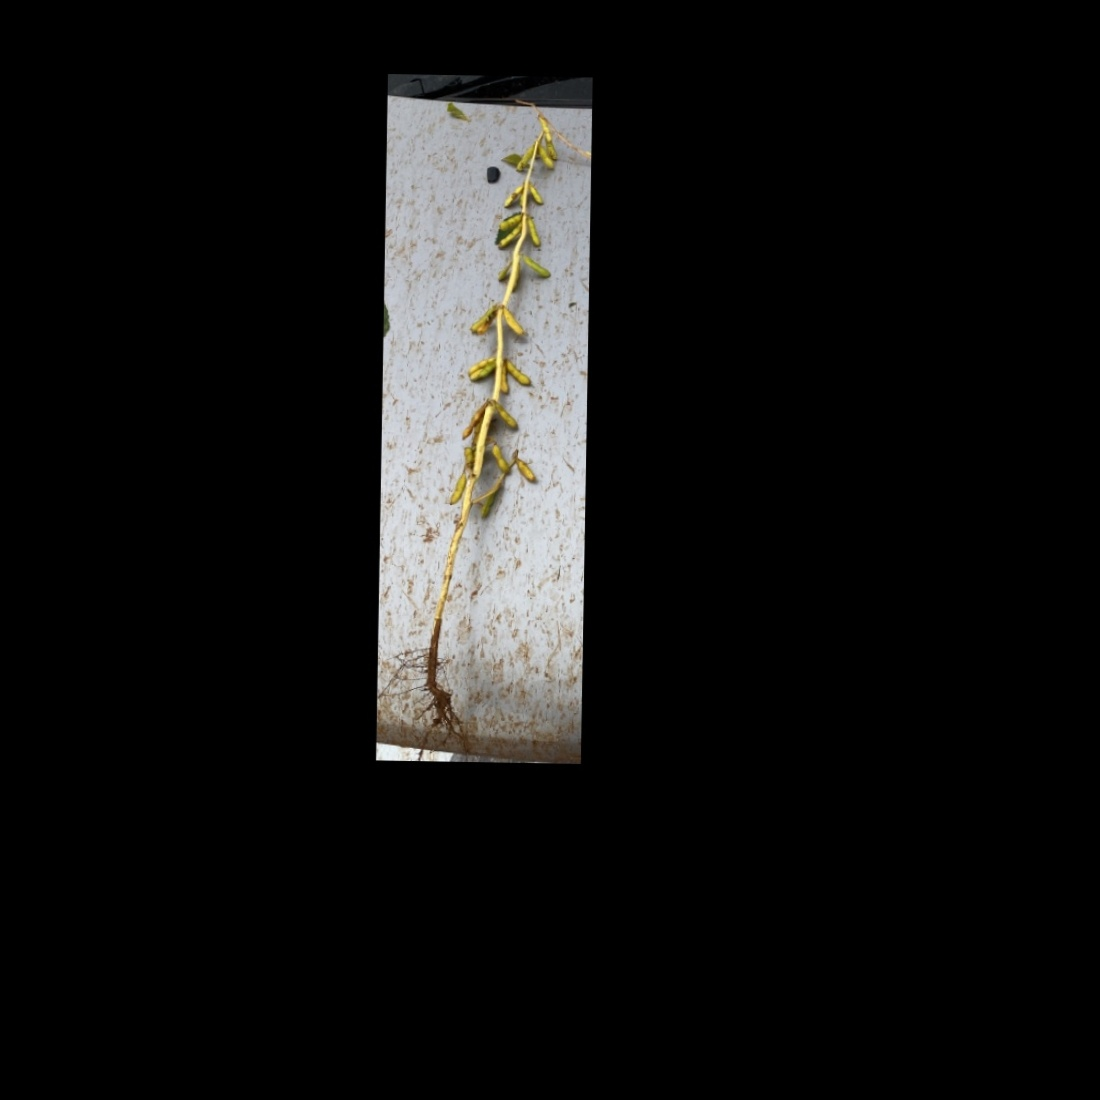pod: (520, 253, 555, 282), (505, 357, 539, 385), (491, 402, 522, 432), (501, 303, 526, 338), (459, 402, 482, 441), (488, 441, 511, 476), (445, 470, 467, 506), (512, 457, 540, 484), (477, 489, 499, 522), (525, 216, 545, 248), (491, 258, 513, 286), (514, 144, 533, 174), (536, 143, 554, 174), (527, 185, 546, 207)
soy: (395, 107, 580, 743)
